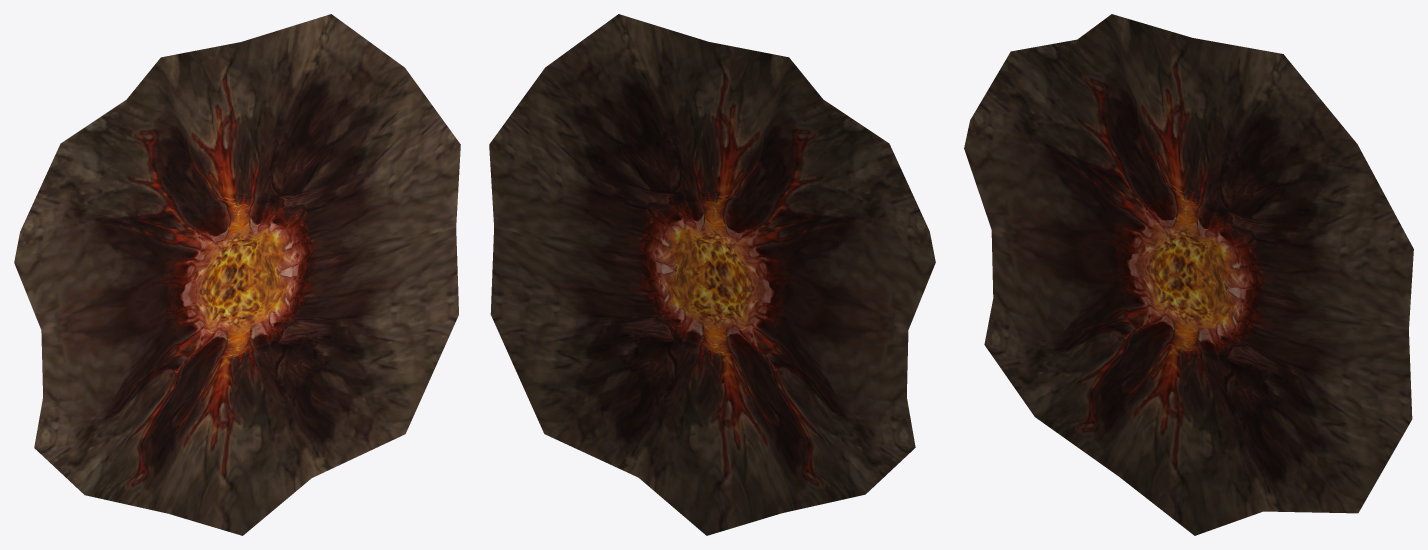
The model's file is huoyandadi.obj.
3 renders of one model, left to right at view 1: azimuth 30°, elevation 25°; view 2: azimuth 150°, elevation 25°; view 3: azimuth 330°, elevation 25°, orthographic.
Parts seen in each view (by area): view 1: Plane11#01; view 2: Plane11#01; view 3: Plane11#01.
Part boxes in pixels (bbox=[...]): Plane11#01: bbox=[14, 14, 460, 535]; Plane11#01: bbox=[489, 14, 935, 535]; Plane11#01: bbox=[964, 14, 1413, 535].
Bounding box in the file's own units: 214 × 229 × 2.07.
